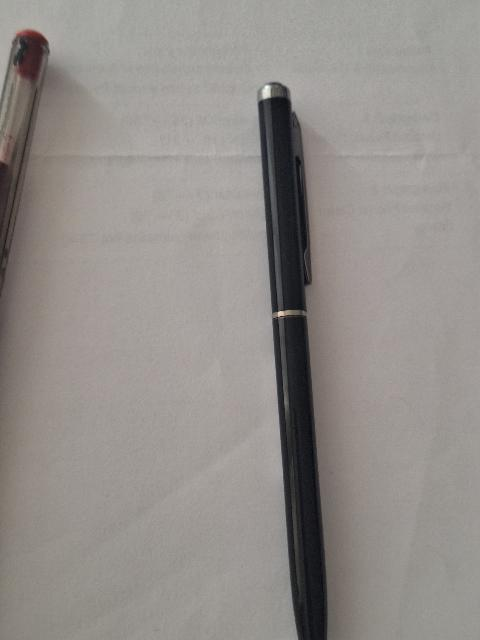writing_tool: (256, 75, 337, 640), (3, 27, 56, 299)
